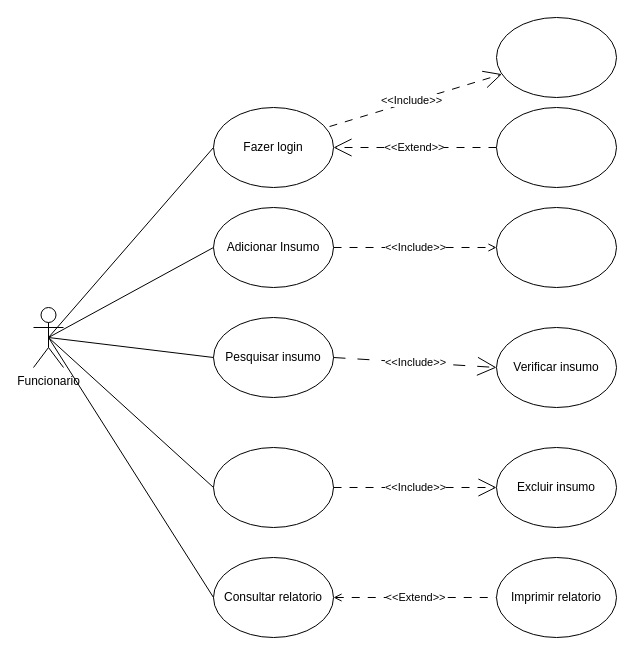
Some shapes in this 634 by 655 pixel diagram are drawn without their labels. The shapes that lost their labels are listed below. From the top down, each one's centre as x and y in pixels, then its label:
point (556, 57): Verificar usuario e senha
point (556, 147): Senha incorre ou usuario nao encontrado
point (556, 247): Confirmação de inclusao
point (273, 487): Dar baixa em insumo
